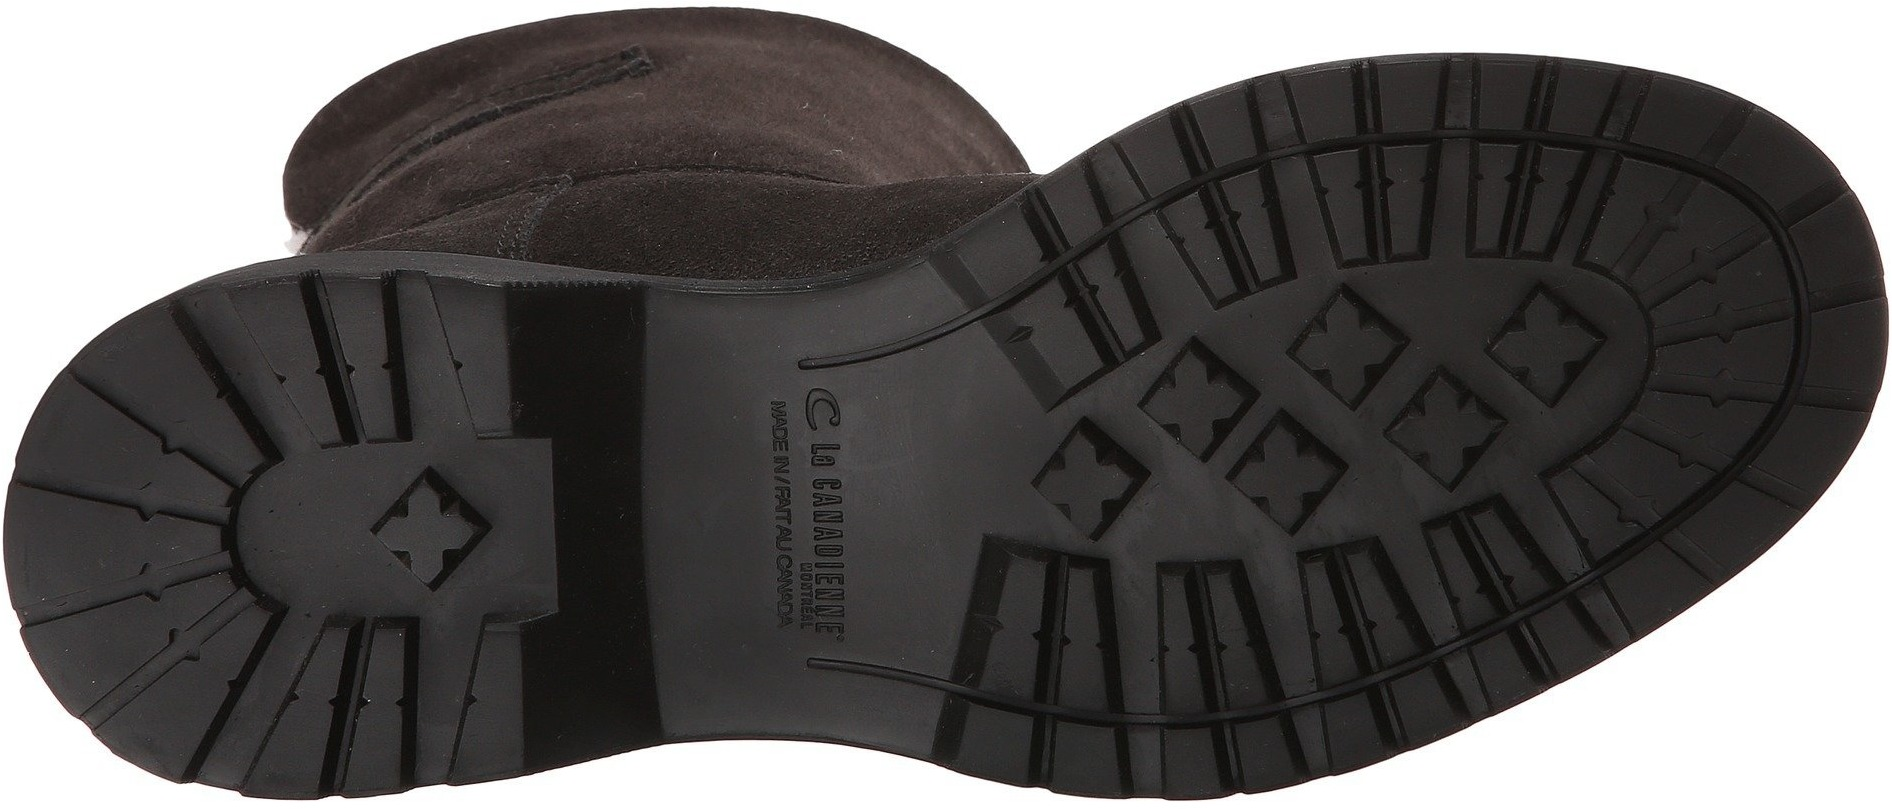bowtie: (1627, 184, 1887, 425), (65, 405, 293, 633), (1257, 76, 1485, 295), (1157, 532, 1372, 706), (973, 531, 1139, 699), (1408, 487, 1569, 635)
exclude: (475, 159, 1014, 788), (192, 2, 1092, 298)
star: (1178, 309, 1392, 528), (1400, 291, 1598, 475), (345, 453, 506, 613)
text: (731, 388, 951, 595), (770, 603, 828, 658)
